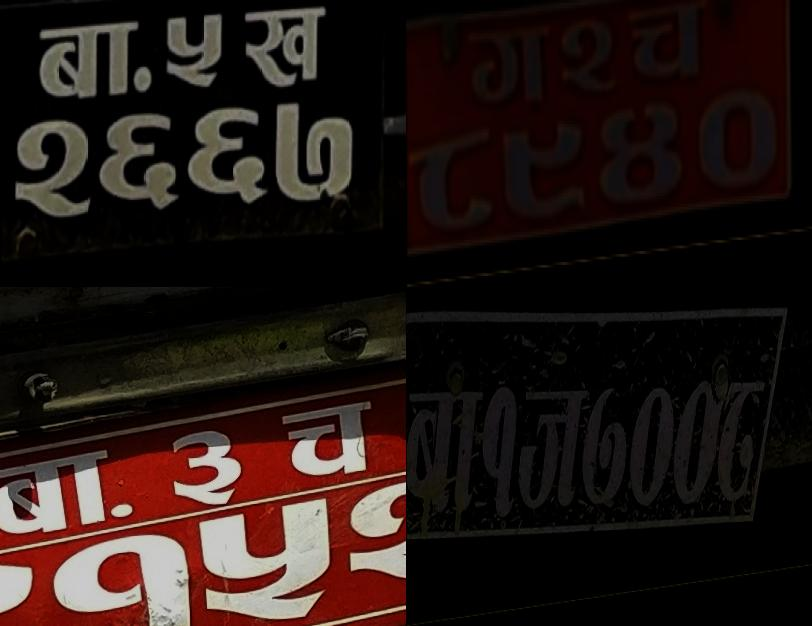0: (693, 93, 785, 211), (406, 380, 479, 524), (37, 21, 136, 106)
1: (48, 529, 196, 626), (14, 115, 92, 224)
2: (518, 374, 584, 522), (341, 479, 406, 599), (558, 18, 621, 110)
3: (160, 431, 249, 514), (482, 385, 518, 521)
4: (596, 104, 689, 222), (188, 108, 270, 214), (98, 111, 179, 218), (582, 391, 626, 513)
5: (190, 500, 342, 626)
6: (165, 14, 224, 96)
7: (273, 102, 356, 212)
8: (406, 119, 496, 246)
9: (499, 115, 591, 230)
ba: (0, 444, 135, 545)
cha: (274, 403, 376, 493), (626, 5, 708, 100), (673, 389, 718, 519), (629, 392, 674, 518)
ga: (465, 14, 552, 118)
ja: (243, 8, 326, 96)
pa: (717, 387, 763, 516)
